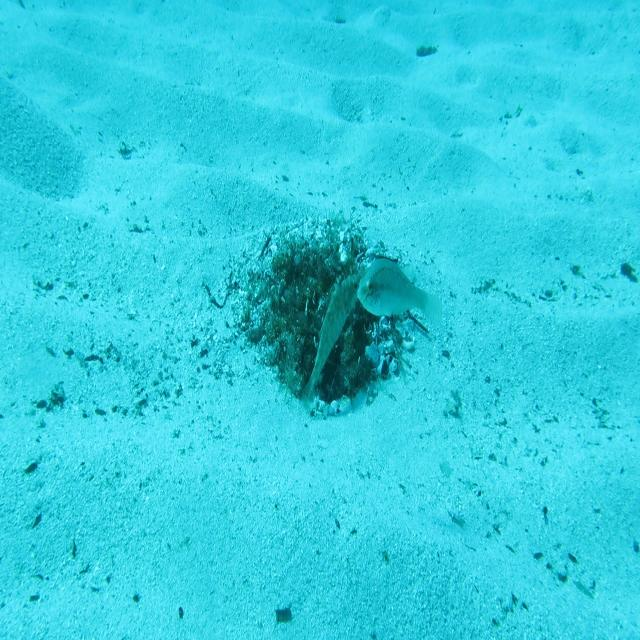LF: (298, 266, 363, 414)
core_nest: (296, 259, 339, 288)
female: (355, 255, 446, 331)
nest: (222, 207, 420, 438)
vegetation: (620, 262, 638, 287), (415, 44, 438, 60), (274, 608, 294, 626)
